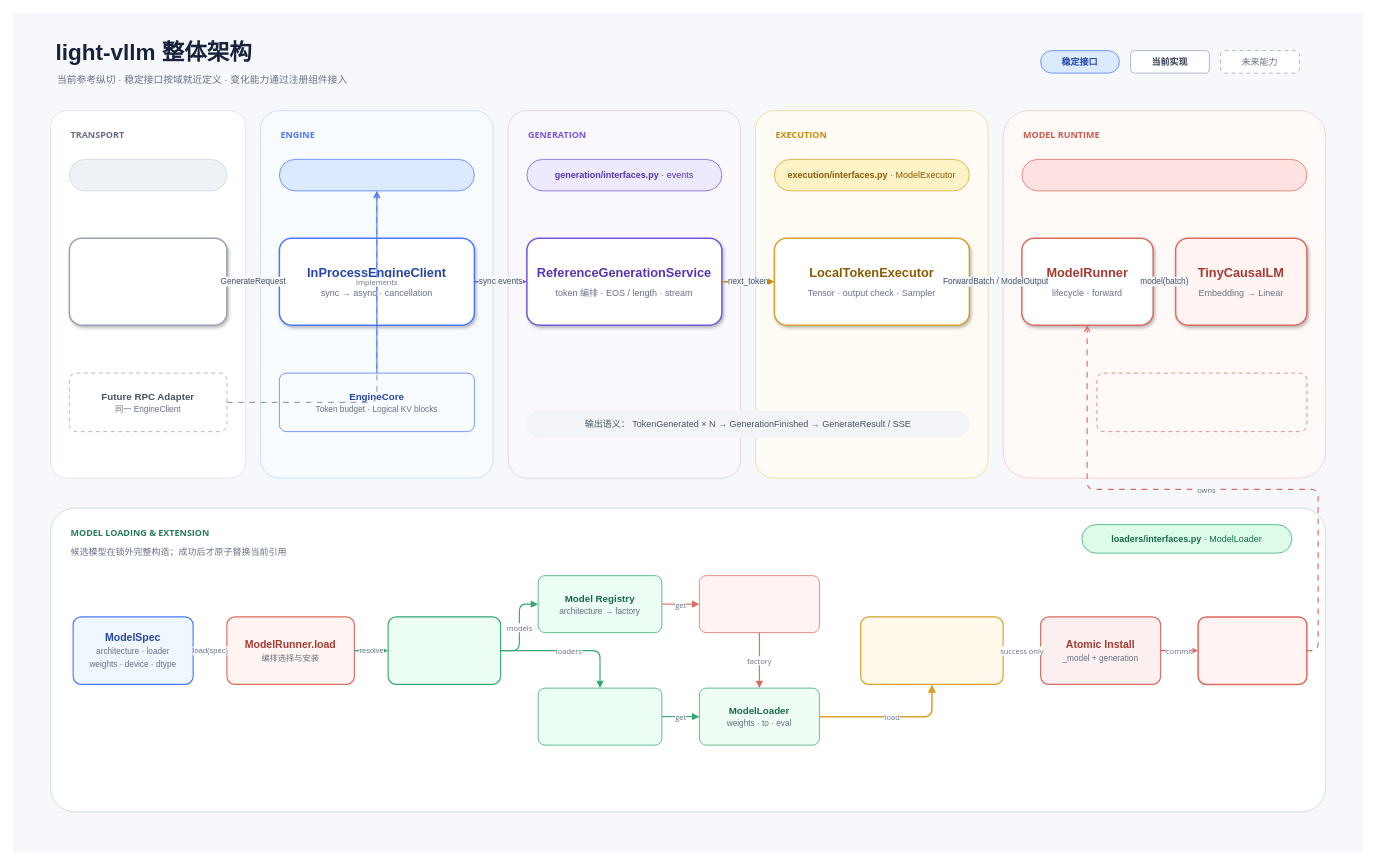
Image size: 1376x866. Some labels were removed from this diagram. Here are the shapes that lost their labels. From the top down, the centre of each, then its label:
At (x=148, y=175): "HTTP / RPC schema".
At (x=376, y=175): "engine/interfaces.py · EngineClient".
At (x=1164, y=175): "models/interfaces.py · ModelSpec · ForwardBatch · ModelOutput".
At (x=148, y=282): "FastAPI Adapter JSON · SSE · status".
At (x=1201, y=402): "Future Model Plugin Llama · Qwen · …".
At (x=759, y=604): "ModelFactory factory(spec)".
At (x=444, y=650): "Catalog 显式扩展点目录".
At (x=931, y=650): "Candidate Model 完整、可用、eval".
At (x=1252, y=650): "Active Model 当前 forward 引用".
At (x=599, y=716): "Loader Registry loader name → loader".
